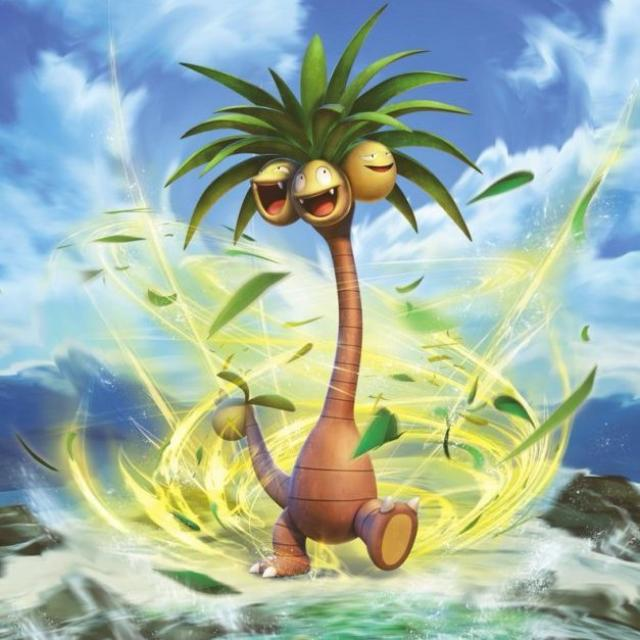Exeggutor: (247, 90, 423, 586)
